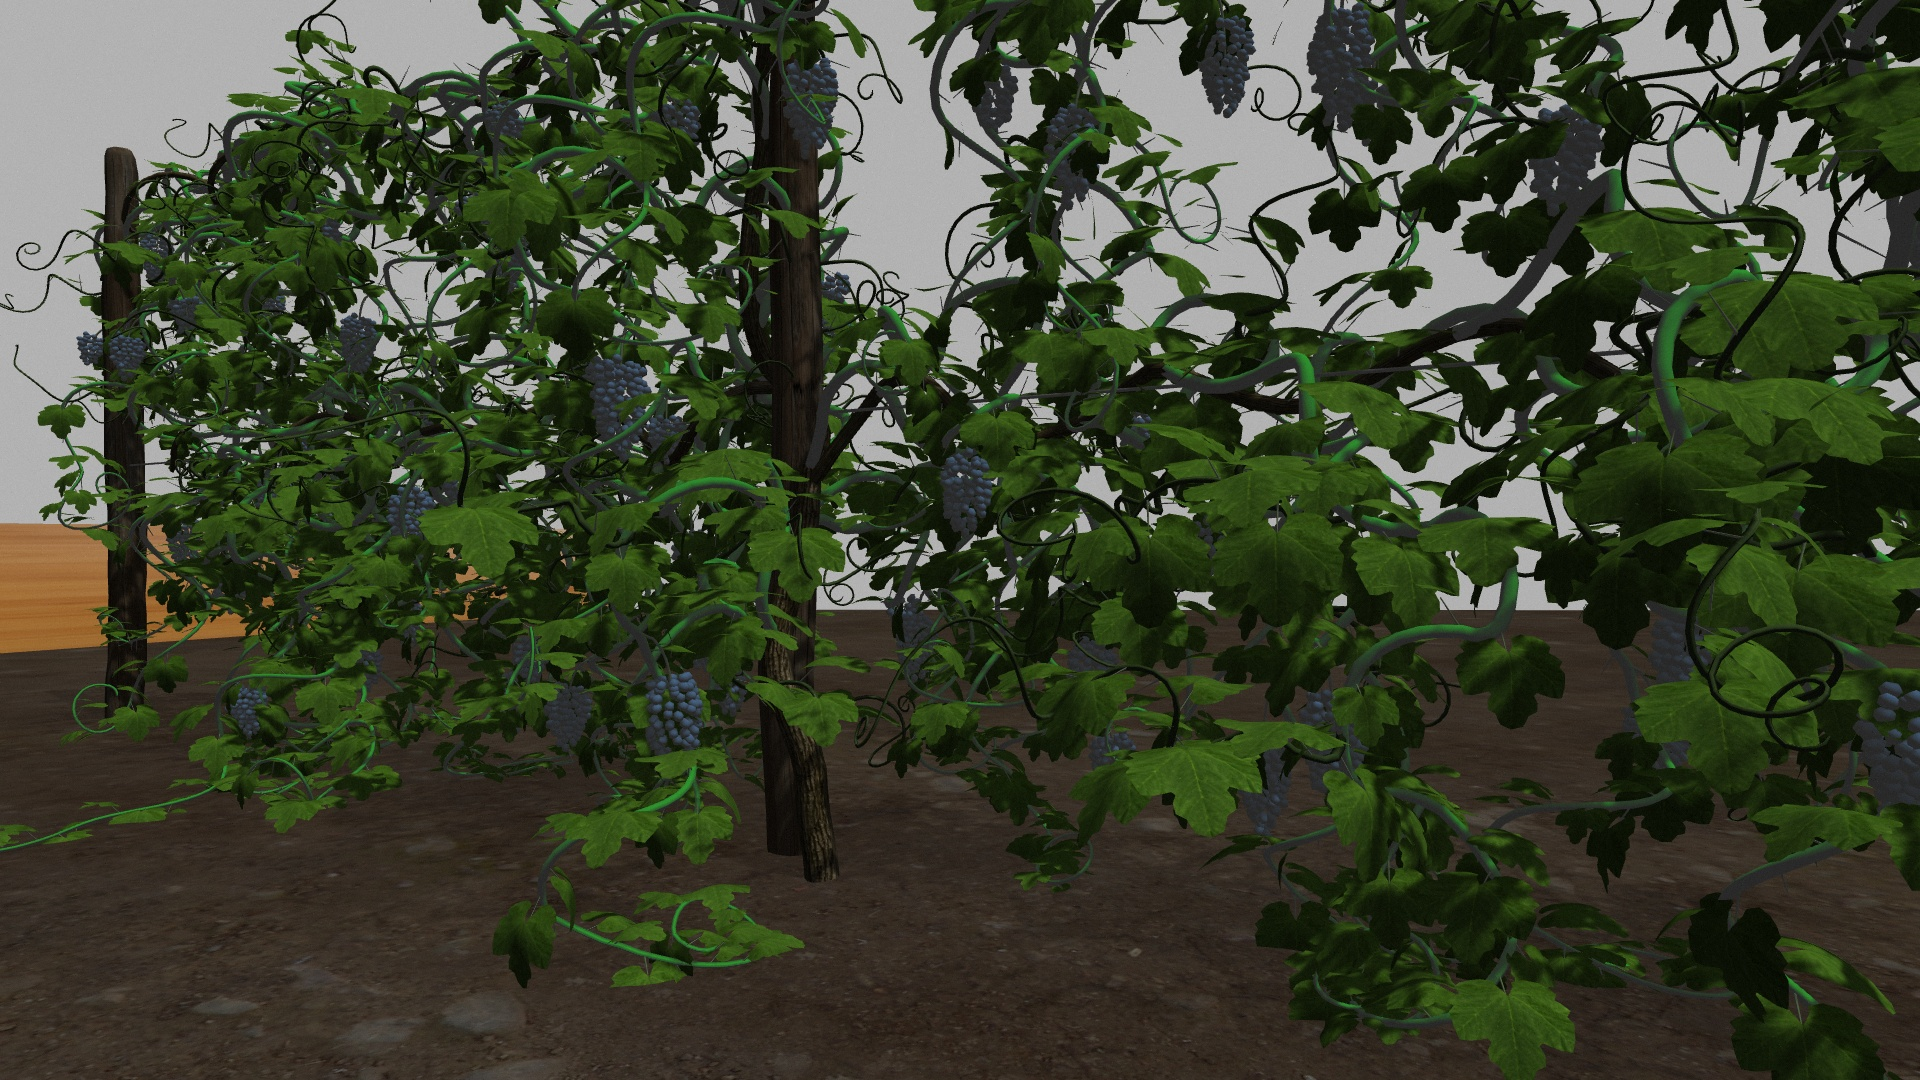grape: (1305, 7, 1375, 135), (1527, 103, 1604, 218), (585, 355, 651, 462), (1043, 102, 1102, 211), (781, 57, 843, 161), (1199, 15, 1255, 119), (644, 670, 704, 758), (1238, 733, 1291, 835), (936, 448, 997, 535), (891, 593, 931, 684), (969, 61, 1019, 131), (545, 680, 593, 752), (386, 483, 436, 539), (338, 313, 378, 373), (229, 684, 273, 738), (108, 326, 145, 378), (659, 96, 702, 138), (647, 415, 684, 462), (487, 103, 524, 142), (138, 229, 167, 278), (170, 293, 202, 331), (78, 332, 103, 368)
